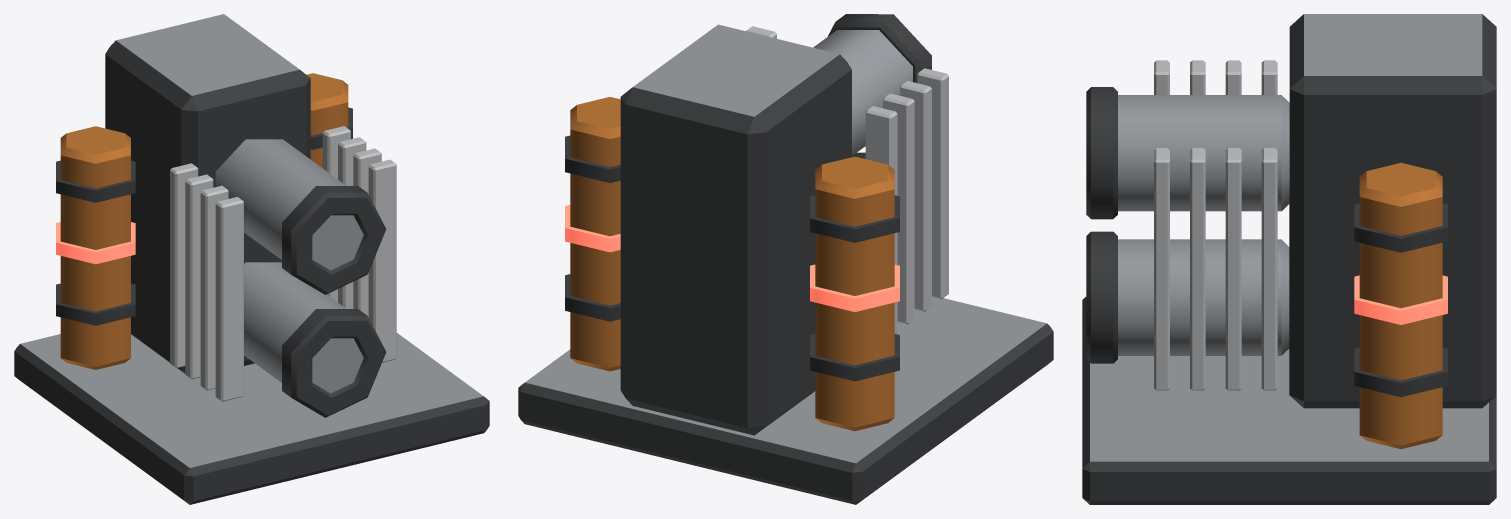
File: R4X_DoubleShotOverdrive_LOD1.fbx
The picture shows the model from 3 angles, left to right: view 1: azimuth 30°, elevation 25°; view 2: azimuth 150°, elevation 25°; view 3: azimuth 270°, elevation 25°; orthographic projection. The views are drawn at different scales.
Parts seen in each view (by area): view 1: R4X_DoubleShotOverdrive_LOD1; view 2: R4X_DoubleShotOverdrive_LOD1; view 3: R4X_DoubleShotOverdrive_LOD1.
Boxes of the visible parts, x1,y1,x2,y2 form: R4X_DoubleShotOverdrive_LOD1: (14,14,489,504); R4X_DoubleShotOverdrive_LOD1: (518,14,1053,504); R4X_DoubleShotOverdrive_LOD1: (1082,14,1496,504).
Size of the model in its own units: 0.52 by 0.52 by 0.52.
